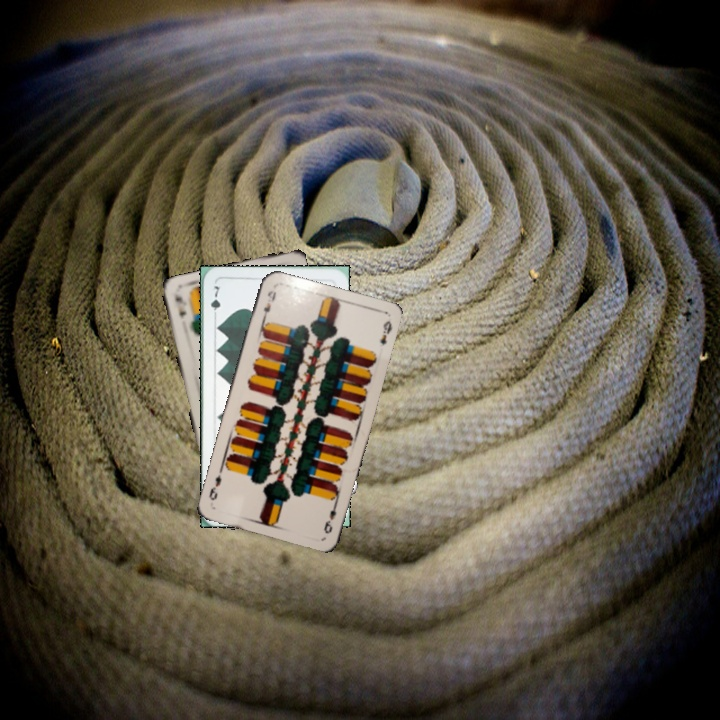E9: (258, 286, 279, 324), (320, 497, 340, 536)
EK: (171, 290, 188, 321)
G7: (206, 282, 223, 322)
